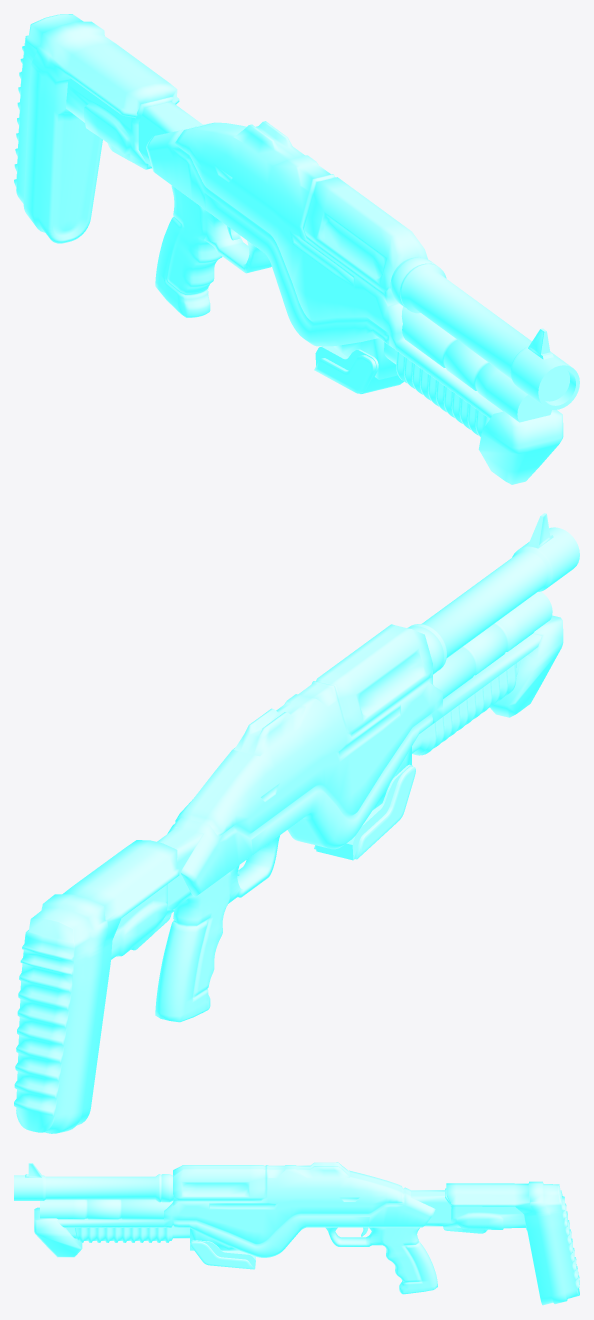
Rendered from scifishotgun02-2.glb.
The picture shows the model from 3 angles, top to bottom: view 1: azimuth 30°, elevation 25°; view 2: azimuth 150°, elevation 25°; view 3: azimuth 270°, elevation 25°; orthographic projection. The views are drawn at different scales.
Visible parts, largest first — view 1: SciFiShotGun02_2, Pump, Cover; view 2: SciFiShotGun02_2, Cover, Pump; view 3: SciFiShotGun02_2, Pump, Cover.
Boxes of the visible parts, bbox=[...] form: SciFiShotGun02_2: bbox=[14, 14, 579, 484]; Pump: bbox=[384, 342, 489, 437]; Cover: bbox=[314, 346, 403, 393]; SciFiShotGun02_2: bbox=[14, 513, 579, 1133]; Cover: bbox=[314, 764, 415, 860]; Pump: bbox=[412, 663, 516, 755]; SciFiShotGun02_2: bbox=[14, 1162, 579, 1305]; Pump: bbox=[75, 1226, 189, 1242]; Cover: bbox=[190, 1240, 255, 1269].
Bounding box in the file's own units: 0.0605 × 0.2463 × 0.9006.
